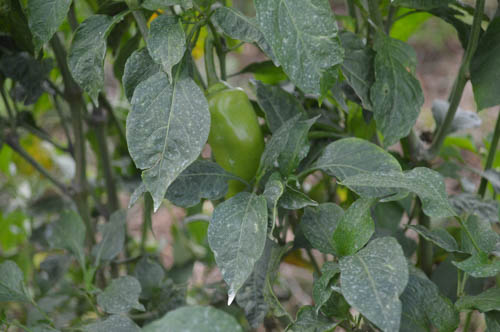ChiliPepper: (212, 89, 270, 199)
